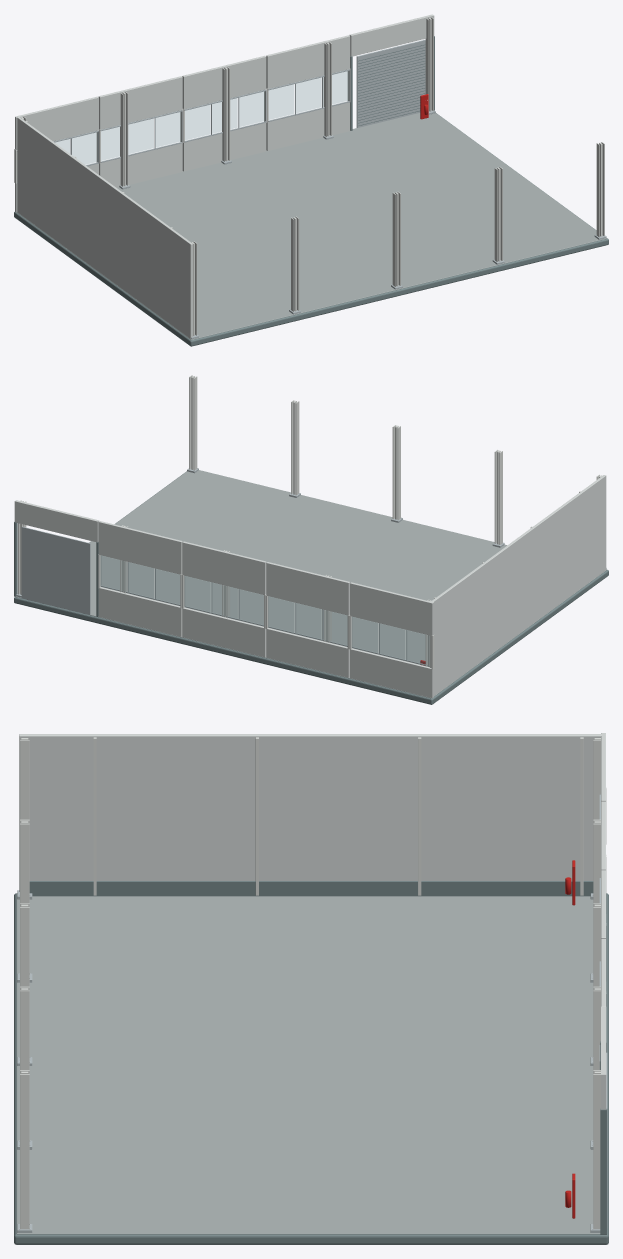
Rendered from logistics-environment.glb.
3 renders of one model, top to bottom at view 1: azimuth 30°, elevation 25°; view 2: azimuth 150°, elevation 25°; view 3: azimuth 270°, elevation 25°, orthographic. The views are drawn at different scales.
Parts seen in each view (by area): view 1: Logistics.Env.Sealed epoxy floor, Logistics.Env.West wall, Logistics.Env.Loading shutter, Logistics.Env.Reinforced floor slab, Logistics.Env.Back wall upper.003, Logistics.Env.Back wall upper.002, Logistics.Env.Back wall upper.001, Logistics.Env.Back wall upper, Logistics.Env.Back insulated wall lower.003, Logistics.Env.Back insulated wall lower.002, Logistics.Env.Back insulated wall lower.001, Logistics.Env.Shutter ribs (+13 smaller); view 2: Logistics.Env.Sealed epoxy floor, Logistics.Env.West wall, Logistics.Env.Loading shutter, Logistics.Env.Reinforced floor slab, Logistics.Env.Back wall upper.002, Logistics.Env.Back wall upper.003, Logistics.Env.Back wall upper.001, Logistics.Env.Back wall upper, Logistics.Env.Back insulated wall lower.002, Logistics.Env.Back insulated wall lower.003, Logistics.Env.Back insulated wall lower, Logistics.Env.Back insulated wall lower.001 (+15 smaller); view 3: Logistics.Env.Sealed epoxy floor, Logistics.Env.West wall, Logistics.Env.Wall impact skirting, Logistics.Env.Reinforced floor slab, Logistics.Env.Column flange.017, Logistics.Env.Column flange.019, Logistics.Env.Shipping door pier.001, Logistics.Env.Column flange.005, Logistics.Env.Column flange.001, Logistics.Env.Column flange.009, Logistics.Env.Column flange.013.
Boxes of the visible parts, x1,y1,x2,y2 form: Logistics.Env.Sealed epoxy floor: [17, 113, 606, 339]; Logistics.Env.West wall: [17, 117, 192, 338]; Logistics.Env.Loading shutter: [356, 39, 425, 127]; Logistics.Env.Reinforced floor slab: [14, 113, 608, 346]; Logistics.Env.Back wall upper.003: [266, 35, 350, 88]; Logistics.Env.Back wall upper.002: [182, 55, 266, 109]; Logistics.Env.Back wall upper.001: [98, 76, 182, 129]; Logistics.Env.Back wall upper: [15, 96, 98, 149]; Logistics.Env.Back insulated wall lower.003: [266, 102, 350, 150]; Logistics.Env.Back insulated wall lower.002: [182, 123, 266, 171]; Logistics.Env.Back insulated wall lower.001: [99, 143, 182, 187]; Logistics.Env.Shutter ribs: [358, 44, 425, 125]; Logistics.Env.Sealed epoxy floor: [16, 470, 606, 698]; Logistics.Env.West wall: [430, 475, 606, 695]; Logistics.Env.Loading shutter: [21, 526, 90, 614]; Logistics.Env.Reinforced floor slab: [14, 471, 608, 704]; Logistics.Env.Back wall upper.002: [182, 541, 266, 594]; Logistics.Env.Back wall upper.003: [98, 521, 182, 574]; Logistics.Env.Back wall upper.001: [266, 562, 350, 615]; Logistics.Env.Back wall upper: [350, 582, 433, 635]; Logistics.Env.Back insulated wall lower.002: [182, 607, 266, 657]; Logistics.Env.Back insulated wall lower.003: [98, 587, 182, 636]; Logistics.Env.Back insulated wall lower: [350, 648, 433, 698]; Logistics.Env.Back insulated wall lower.001: [266, 628, 349, 677]; Logistics.Env.Sealed epoxy floor: [16, 893, 606, 1234]; Logistics.Env.West wall: [19, 734, 601, 891]; Logistics.Env.Wall impact skirting: [29, 881, 593, 896]; Logistics.Env.Reinforced floor slab: [14, 893, 608, 1244]; Logistics.Env.Column flange.017: [20, 1074, 29, 1229]; Logistics.Env.Column flange.019: [593, 1074, 600, 1229]; Logistics.Env.Shipping door pier.001: [600, 1108, 606, 1234]; Logistics.Env.Column flange.005: [20, 823, 29, 903]; Logistics.Env.Column flange.001: [20, 740, 29, 819]; Logistics.Env.Column flange.009: [20, 907, 29, 986]; Logistics.Env.Column flange.013: [20, 990, 29, 1069].
Size of the model in its own units: 25.51 by 5.92 by 18.7.
